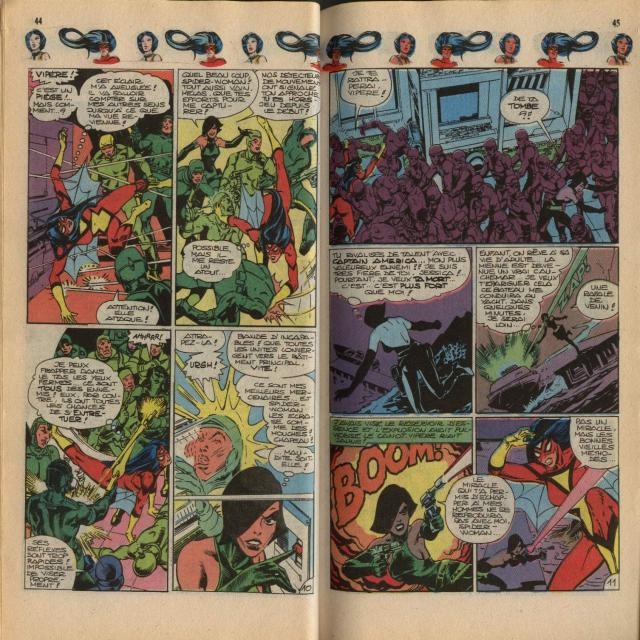comic_panel: (329, 67, 620, 246), (23, 328, 172, 593), (26, 66, 175, 328), (172, 329, 317, 597), (174, 67, 322, 327), (329, 415, 475, 594), (475, 415, 621, 593), (327, 245, 474, 414), (475, 245, 620, 415)
